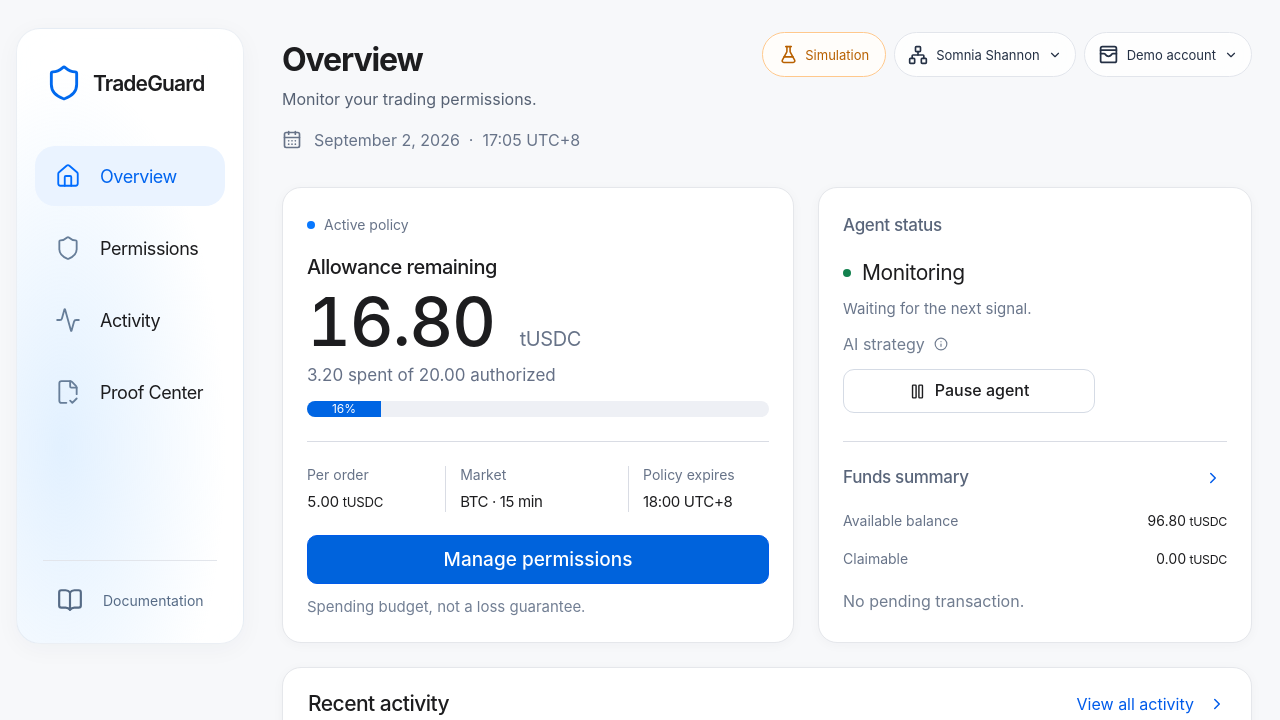
working product flows › renders the design amounts and pause action
Expected: the heading "Allowance remaining" is shown, [307,255,497,279]
Click the button "Pause agent": (969, 391) [843,369,1095,413]
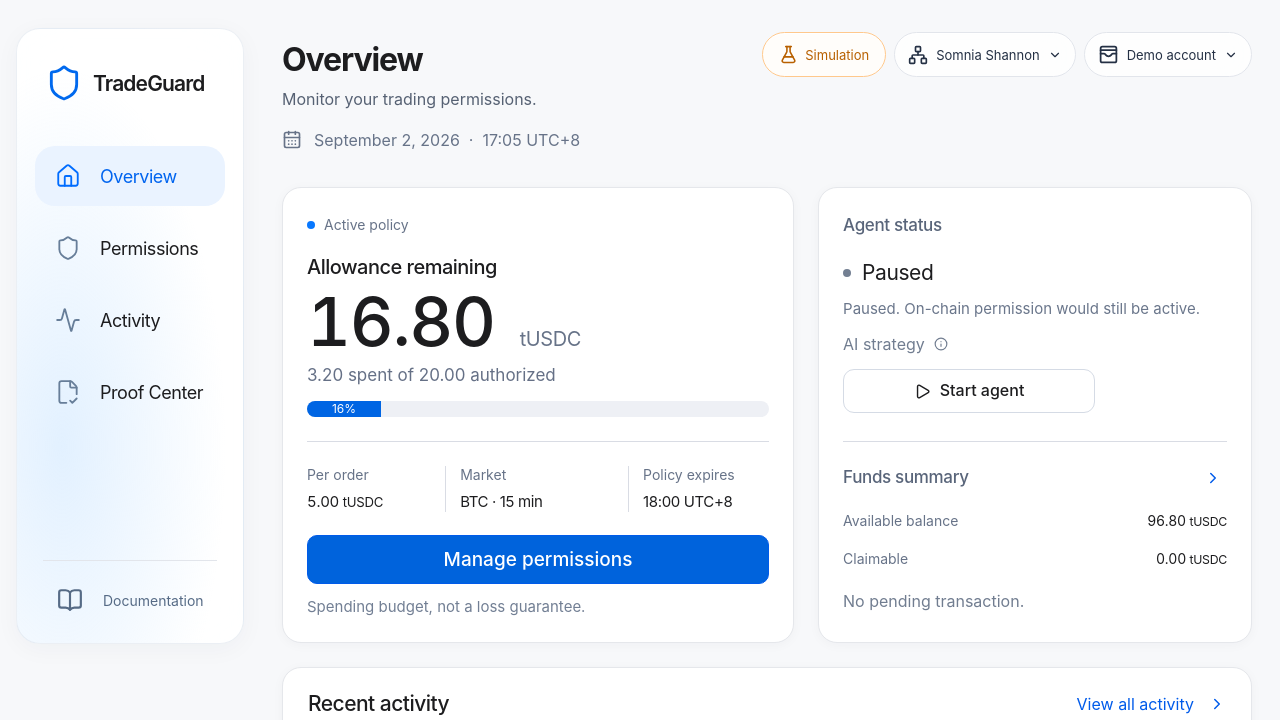
Expected: the button "Start agent" is shown, [843,369,1095,413]
Expected: the text "Paused. On-chain permission would still be active." is shown, [843,297,1227,322]
